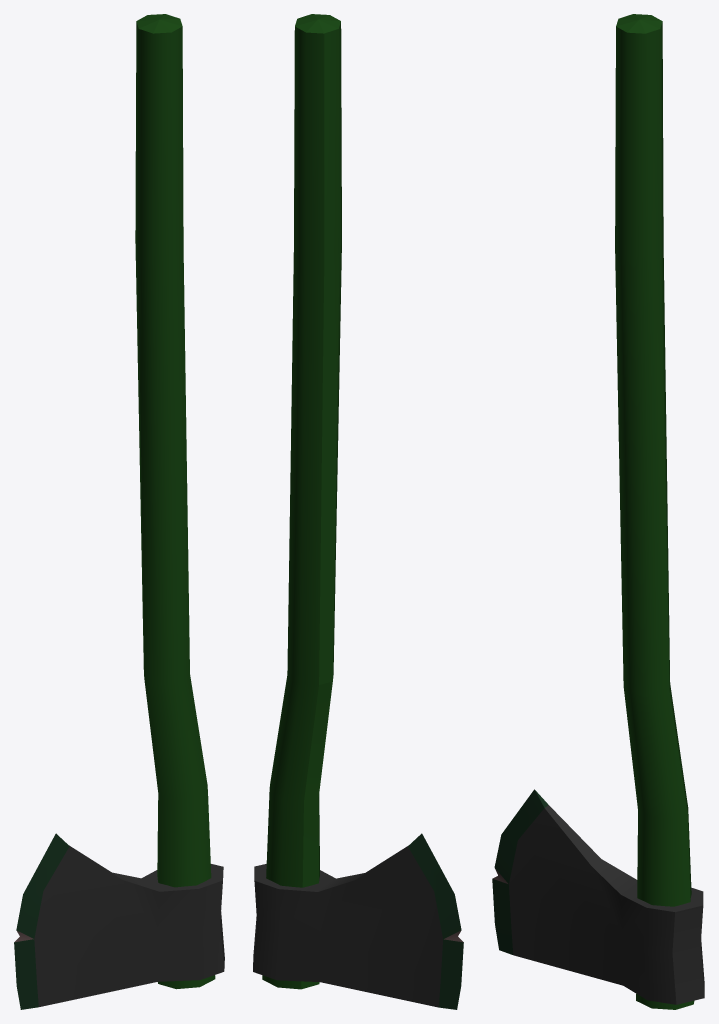
File: PT_LongWaraxe_01_a.glb
3 renders of one model, left to right at view 1: azimuth 30°, elevation 25°; view 2: azimuth 150°, elevation 25°; view 3: azimuth 330°, elevation 25°, orthographic.
Visible parts, largest first — view 1: PT_LongWaraxe_01_a; view 2: PT_LongWaraxe_01_a; view 3: PT_LongWaraxe_01_a.
Part boxes in pixels (x1,y1,x2,y2): PT_LongWaraxe_01_a: (14,14,224,1009); PT_LongWaraxe_01_a: (253,14,463,1009); PT_LongWaraxe_01_a: (492,14,704,1009).
Bounding box in the file's own units: 0.2398 × 1.05 × 0.0643.
1 material, 1 textured.
